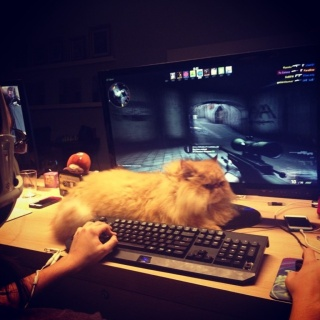Cat: (47, 155, 240, 241)
